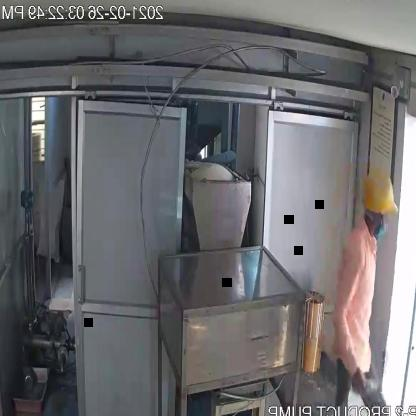helmet: (358, 162, 400, 223)
